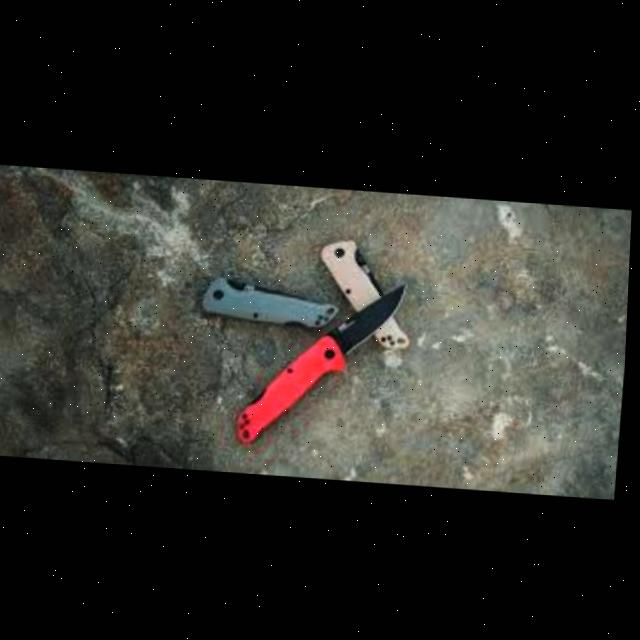Knife: (240, 268, 412, 450)
